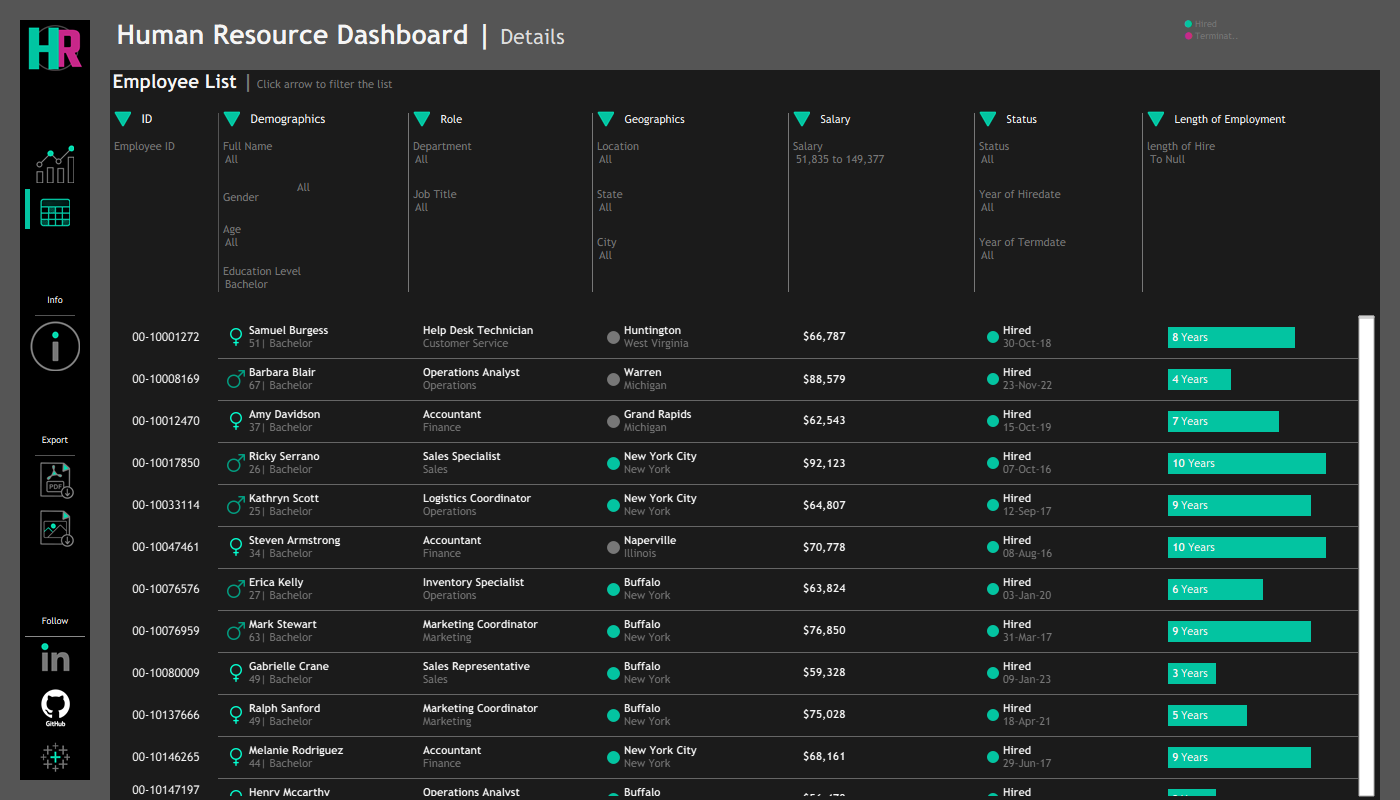

The page's visual inventory and layout, read from the dashboard file:
{"tool":"tableau","page":{"name":"HR | Deatils","canvas":[1400,800],"ordinal":0},"visuals":[{"type":"text","box":[110,0,949,70]},{"type":"blank","box":[1059,0,321,70]},{"type":"text","box":[1182,16,61,30]},{"type":"image","param":"Image/Logo.png","box":[20,20,70,55]},{"type":"text","box":[110,70,1270,23]},{"type":"blank","box":[20,75,70,60]},{"type":"dashboard-object","box":[110,103,25,32]},{"type":"text","box":[135,103,83,32]},{"type":"blank","box":[218,103,1,186]},{"type":"dashboard-object","box":[219,103,25,32]},{"type":"text","box":[244,103,164,32]},{"type":"blank","box":[408,103,1,186]},{"type":"dashboard-object","box":[409,103,25,32]},{"type":"text","box":[434,103,158,32]},{"type":"blank","box":[592,103,1,186]},{"type":"dashboard-object","box":[593,103,25,32]},{"type":"text","box":[618,103,170,32]},{"type":"blank","box":[788,103,1,186]},{"type":"dashboard-object","box":[789,103,25,32]},{"type":"text","box":[814,103,160,32]},{"type":"blank","box":[974,103,1,186]},{"type":"dashboard-object","box":[975,103,25,32]},{"type":"text","box":[1000,103,142,32]},{"type":"blank","box":[1142,103,1,186]},{"type":"dashboard-object","box":[1143,103,25,32]},{"type":"text","box":[1168,103,212,32]},{"type":"filter","title":"Employee Table","param":"[federated.1epie721qamutk1f8vla402ryr66].[none:Employee_ID:nk]","box":[110,135,108,45]},{"type":"filter","title":"Employee Table","param":"[federated.1epie721qamutk1f8vla402ryr66].[none:Calculation_1153405109690370:nk]","box":[219,135,189,38.5]},{"type":"filter","title":"Employee Table","param":"[federated.1epie721qamutk1f8vla402ryr66].[none:Department:nk]","box":[409,135,183,48]},{"type":"filter","title":"Employee Table","param":"[federated.1epie721qamutk1f8vla402ryr66].[none:Calculation_0877701839294473:nk]","box":[593,135,195,48]},{"type":"filter","title":"Employee Table","param":"[federated.1epie721qamutk1f8vla402ryr66].[sum:Salary:qk]","box":[789,135,185,65]},{"type":"filter","title":"Employee Table","param":"[federated.1epie721qamutk1f8vla402ryr66].[none:Calculation_1261156856659968:nk]","box":[975,135,167,48]},{"type":"filter","title":"Employee Table","param":"[federated.1epie721qamutk1f8vla402ryr66].[sum:Calculation_1153405119275011:qk]","box":[1143,135,237,65]},{"type":"dashboard-object","box":[30,145,50,38]},{"type":"filter","title":"Employee Table","param":"[federated.1epie721qamutk1f8vla402ryr66].[none:Gender:nk]","box":[219,173.5,189,38.5]},{"type":"blank","box":[30,183,50,10]},{"type":"filter","title":"Employee Table","param":"[federated.1epie721qamutk1f8vla402ryr66].[none:Job Title:nk]","box":[409,183,183,48]},{"type":"filter","title":"Employee Table","param":"[federated.1epie721qamutk1f8vla402ryr66].[none:State:nk]","box":[593,183,195,48]},{"type":"filter","title":"Employee Table","param":"[federated.1epie721qamutk1f8vla402ryr66].[yr:Hiredate:ok]","box":[975,183,167,48]},{"type":"text","box":[89,186,1311,307]},{"type":"blank","box":[25,189,5,40]},{"type":"dashboard-object","box":[30,193,50,38]},{"type":"filter","title":"Employee Table","param":"[federated.1epie721qamutk1f8vla402ryr66].[none:Calculation_0877701890605068:ok]","box":[219,212,189,38.5]},{"type":"blank","box":[30,231,50,60]},{"type":"filter","title":"Employee Table","param":"[federated.1epie721qamutk1f8vla402ryr66].[none:City:nk]","box":[593,231,195,48]},{"type":"filter","title":"Employee Table","param":"[federated.1epie721qamutk1f8vla402ryr66].[yr:Termdate:ok]","box":[975,231,167,48]},{"type":"filter","title":"Employee Table","param":"[federated.1epie721qamutk1f8vla402ryr66].[none:Education Level:nk]","box":[219,250.5,189,38.5]},{"type":"text","box":[30,291,50,19]},{"type":"worksheet","title":"Employee Table","mark":"Shape","rows":["Employee_ID"],"cols":["Calculation_1153405108887553","Calculation_1153405108887553","Calculation_1153405108887553","Calculation_1153405108887553","Calculation_1153405108887553","Calculation_1153405119275011"],"box":[110,299,1270,501]},{"type":"blank","box":[30,310,50,11]},{"type":"dashboard-object","box":[30,321,50,50]},{"type":"blank","box":[30,371,50,60]},{"type":"text","box":[30,431,50,19]},{"type":"blank","box":[30,450,50,11]},{"type":"dashboard-object","box":[30,461,50,38]},{"type":"blank","box":[30,499,50,10]},{"type":"dashboard-object","box":[30,509,50,38]},{"type":"blank","box":[20,571,70,41]},{"type":"text","box":[20,612,70,19]},{"type":"blank","box":[20,631,70,11]},{"type":"image","param":"Image/contact-linkedin.png","box":[20,642,70,30]},{"type":"blank","box":[20,672,70,10]},{"type":"image","param":"Image/github-logo.jpg","box":[20,682,70,50]},{"type":"blank","box":[20,732,70,10]},{"type":"image","param":"Image/contact-public.png","box":[20,742,70,30]}]}

Visuals, with their boxes on the page's 1400x800 design canvas (x1, y1, x2, y2). These are canvas units, not pixel positions in the 1400x800 screenshot, which may show the page scaled, cropped or inside an application window:
text: bbox=[110, 0, 1059, 70]
blank: bbox=[1059, 0, 1380, 70]
text: bbox=[1182, 16, 1243, 46]
image: bbox=[20, 20, 90, 75]
text: bbox=[110, 70, 1380, 93]
blank: bbox=[20, 75, 90, 135]
dashboard-object: bbox=[110, 103, 135, 135]
text: bbox=[135, 103, 218, 135]
blank: bbox=[218, 103, 219, 289]
dashboard-object: bbox=[219, 103, 244, 135]
text: bbox=[244, 103, 408, 135]
blank: bbox=[408, 103, 409, 289]
dashboard-object: bbox=[409, 103, 434, 135]
text: bbox=[434, 103, 592, 135]
blank: bbox=[592, 103, 593, 289]
dashboard-object: bbox=[593, 103, 618, 135]
text: bbox=[618, 103, 788, 135]
blank: bbox=[788, 103, 789, 289]
dashboard-object: bbox=[789, 103, 814, 135]
text: bbox=[814, 103, 974, 135]
blank: bbox=[974, 103, 975, 289]
dashboard-object: bbox=[975, 103, 1000, 135]
text: bbox=[1000, 103, 1142, 135]
blank: bbox=[1142, 103, 1143, 289]
dashboard-object: bbox=[1143, 103, 1168, 135]
text: bbox=[1168, 103, 1380, 135]
"Employee Table" filter: bbox=[110, 135, 218, 180]
"Employee Table" filter: bbox=[219, 135, 408, 174]
"Employee Table" filter: bbox=[409, 135, 592, 183]
"Employee Table" filter: bbox=[593, 135, 788, 183]
"Employee Table" filter: bbox=[789, 135, 974, 200]
"Employee Table" filter: bbox=[975, 135, 1142, 183]
"Employee Table" filter: bbox=[1143, 135, 1380, 200]
dashboard-object: bbox=[30, 145, 80, 183]
"Employee Table" filter: bbox=[219, 174, 408, 212]
blank: bbox=[30, 183, 80, 193]
"Employee Table" filter: bbox=[409, 183, 592, 231]
"Employee Table" filter: bbox=[593, 183, 788, 231]
"Employee Table" filter: bbox=[975, 183, 1142, 231]
text: bbox=[89, 186, 1400, 493]
blank: bbox=[25, 189, 30, 229]
dashboard-object: bbox=[30, 193, 80, 231]
"Employee Table" filter: bbox=[219, 212, 408, 250]
blank: bbox=[30, 231, 80, 291]
"Employee Table" filter: bbox=[593, 231, 788, 279]
"Employee Table" filter: bbox=[975, 231, 1142, 279]
"Employee Table" filter: bbox=[219, 250, 408, 289]
text: bbox=[30, 291, 80, 310]
"Employee Table" worksheet (Shape marks): bbox=[110, 299, 1380, 800]
blank: bbox=[30, 310, 80, 321]
dashboard-object: bbox=[30, 321, 80, 371]
blank: bbox=[30, 371, 80, 431]
text: bbox=[30, 431, 80, 450]
blank: bbox=[30, 450, 80, 461]
dashboard-object: bbox=[30, 461, 80, 499]
blank: bbox=[30, 499, 80, 509]
dashboard-object: bbox=[30, 509, 80, 547]
blank: bbox=[20, 571, 90, 612]
text: bbox=[20, 612, 90, 631]
blank: bbox=[20, 631, 90, 642]
image: bbox=[20, 642, 90, 672]
blank: bbox=[20, 672, 90, 682]
image: bbox=[20, 682, 90, 732]
blank: bbox=[20, 732, 90, 742]
image: bbox=[20, 742, 90, 772]
